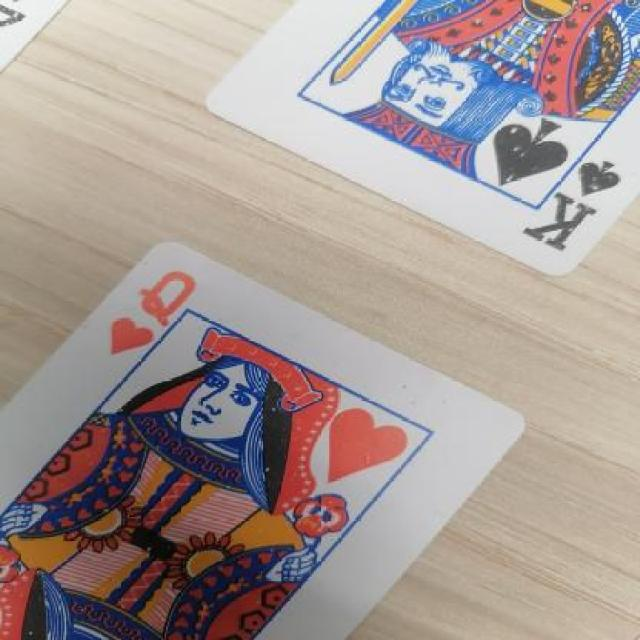KS: (508, 154, 632, 271)
QH: (82, 258, 225, 373)
